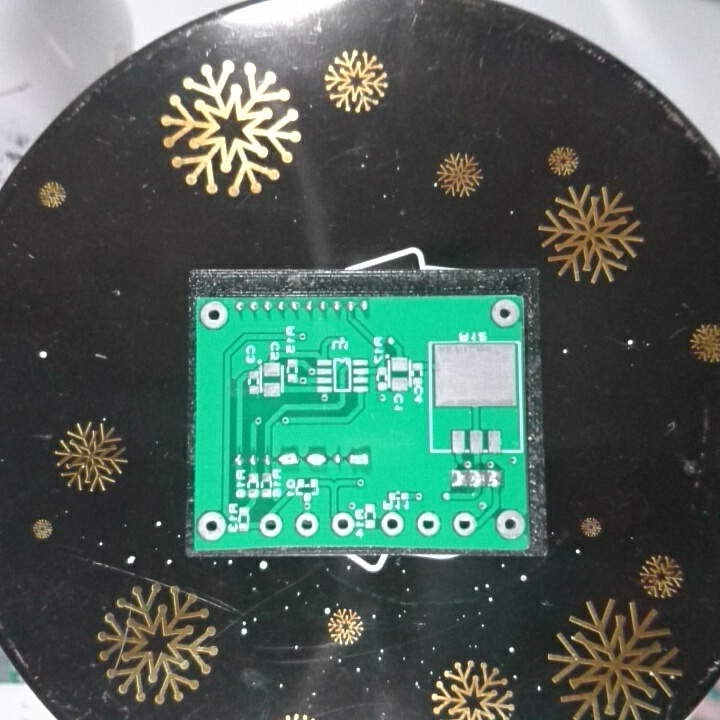F: (195, 508, 228, 545), (197, 298, 231, 332), (495, 507, 527, 543), (489, 296, 522, 329), (414, 509, 442, 538), (293, 511, 321, 538), (451, 510, 477, 538), (379, 512, 406, 538), (330, 511, 356, 538), (258, 512, 284, 538)
P: (275, 449, 301, 468), (345, 449, 371, 468), (304, 449, 329, 468)
